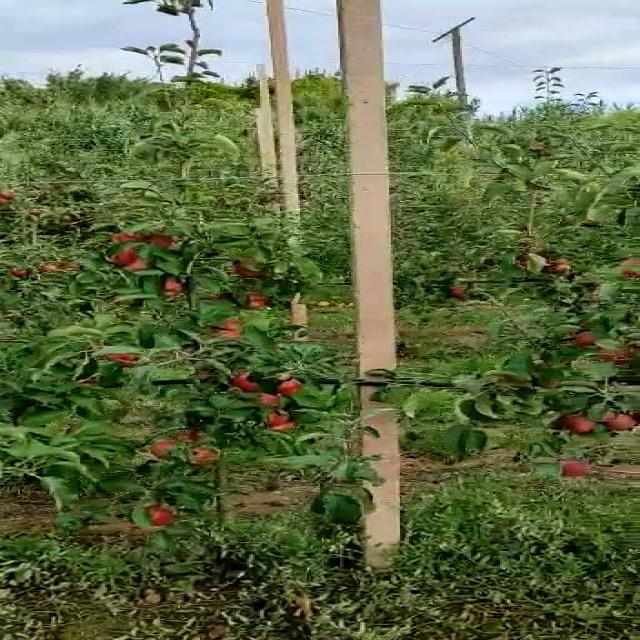100-_ripeness: (105, 247, 162, 269), (137, 502, 186, 527), (140, 434, 178, 462), (560, 410, 600, 436), (184, 433, 218, 462), (151, 275, 191, 298), (231, 261, 269, 282), (227, 369, 262, 391), (116, 225, 154, 244), (602, 410, 634, 432), (616, 255, 640, 283), (109, 344, 136, 364), (240, 291, 269, 309), (258, 407, 291, 422), (278, 376, 306, 393)
